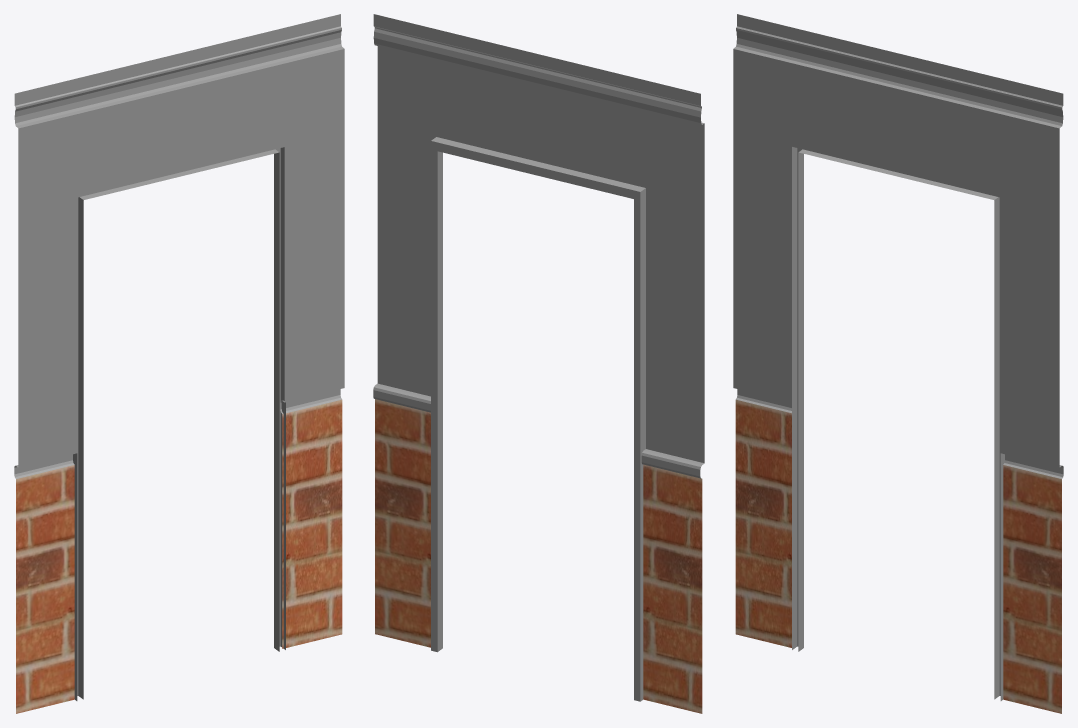
The model's file is SM_MurPorte.fbx.
The picture shows the model from 3 angles, left to right: view 1: azimuth 30°, elevation 25°; view 2: azimuth 150°, elevation 25°; view 3: azimuth 330°, elevation 25°; orthographic projection.
Parts seen in each view (by area): view 1: SM_MurPorte; view 2: SM_MurPorte; view 3: SM_MurPorte.
Boxes of the visible parts, x1,y1,x2,y2 form: SM_MurPorte: (14, 14, 344, 713); SM_MurPorte: (373, 14, 704, 713); SM_MurPorte: (733, 14, 1063, 713).
Bounding box in the file's own units: 146 × 264 × 4.16.
Materials: 5 (1 with a texture image).
